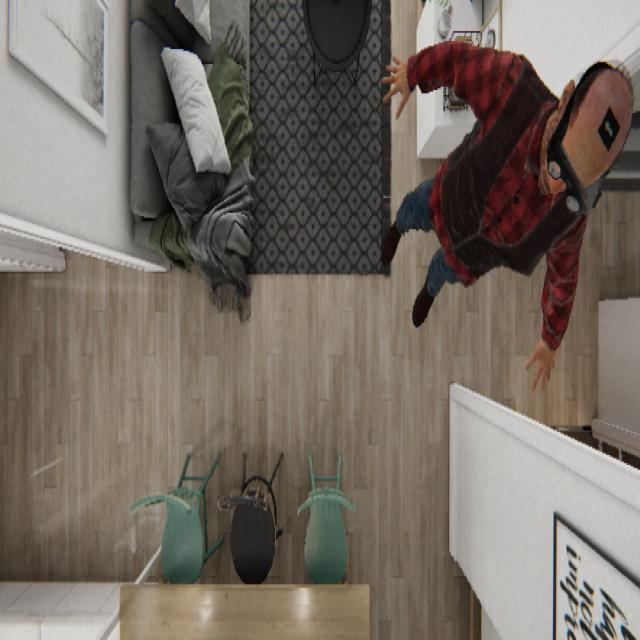Human: (379, 38, 634, 391)
UnityLogo: (597, 103, 620, 152)
